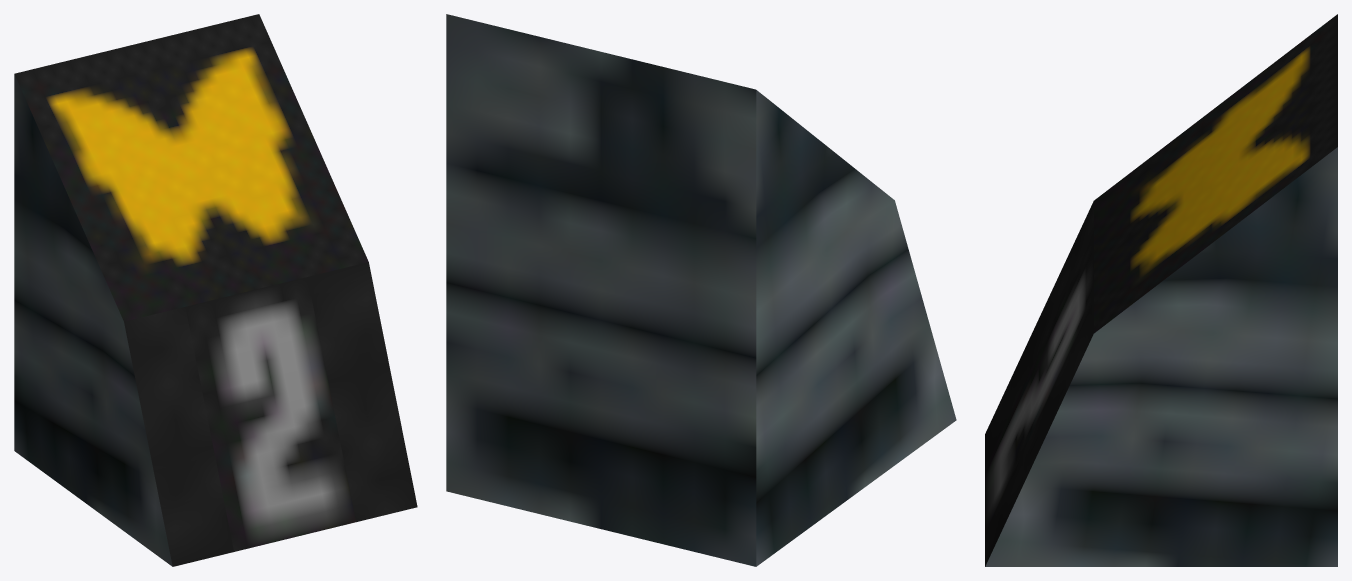
Rendered from prop-033.glb.
3 views of the same model, side by side, from view 1: azimuth 30°, elevation 25°; view 2: azimuth 150°, elevation 25°; view 3: azimuth 270°, elevation 25° (orthographic). The views are drawn at different scales.
Parts seen in each view (by area): view 1: root; view 2: root; view 3: root.
Part boxes in pixels (<box>): root: <box>14,14,417,566</box>; root: <box>446,14,956,566</box>; root: <box>985,14,1337,566</box>.
Bounding box in the file's own units: 0.5996 × 0.8828 × 0.6719.
1 material, 1 textured.
